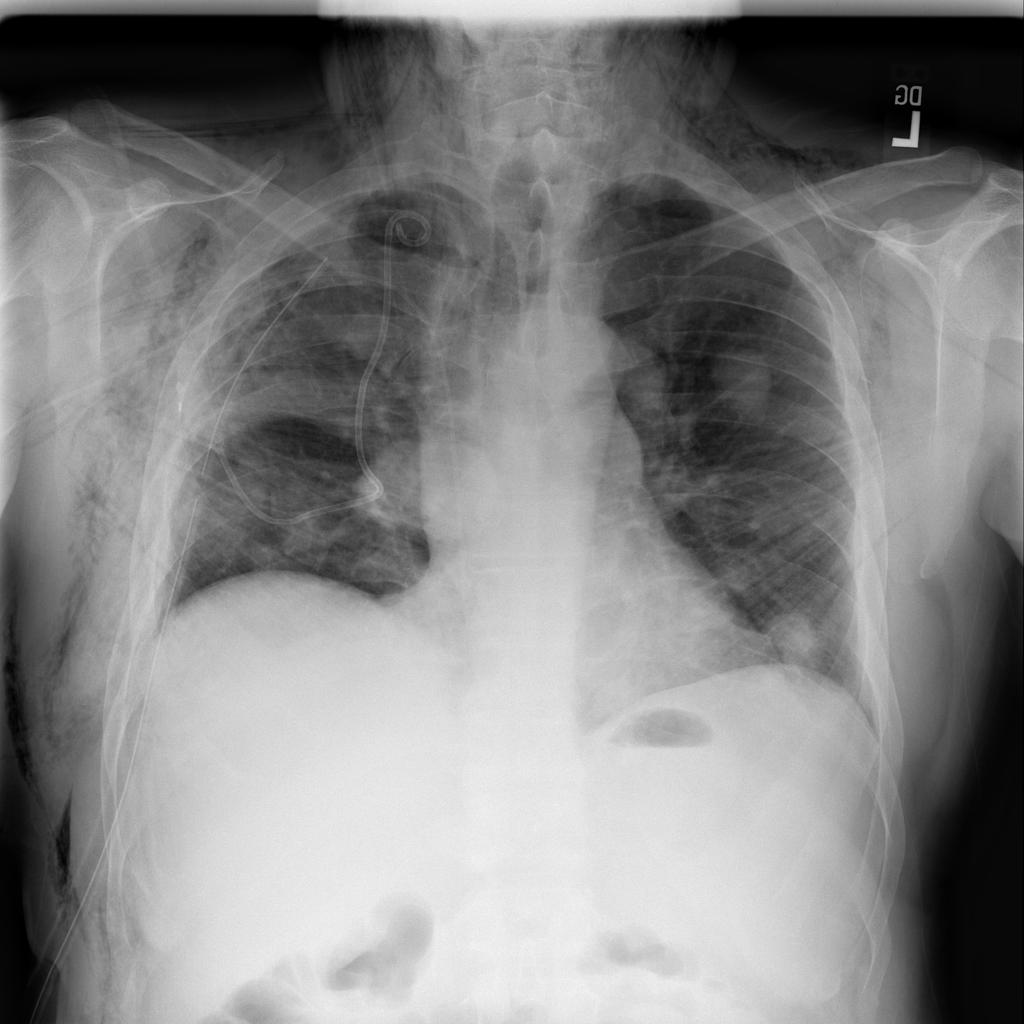nodule: (343, 413, 505, 552), (692, 321, 798, 437), (756, 599, 836, 682)
